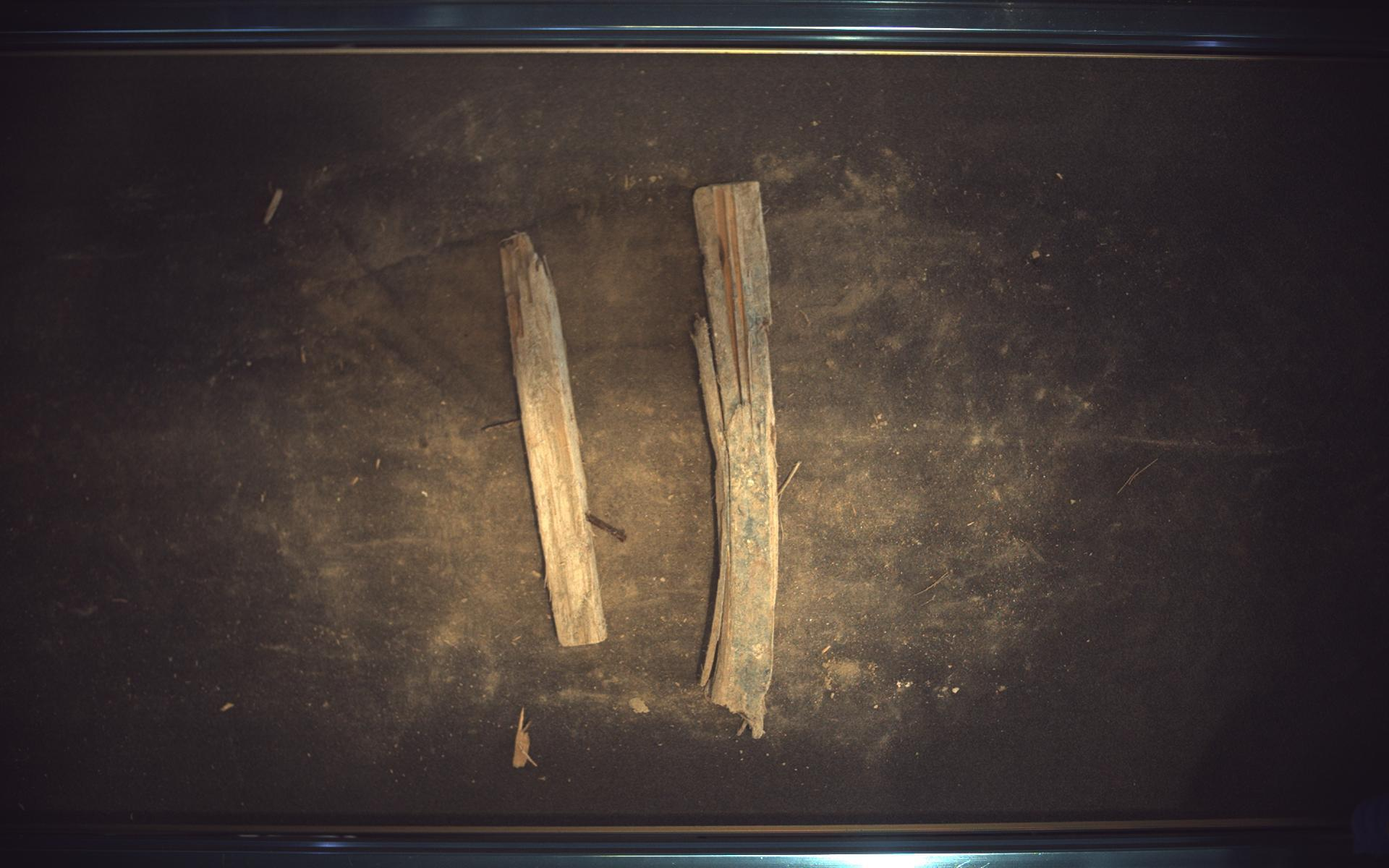wood: (694, 181, 781, 740), (501, 232, 608, 647)
